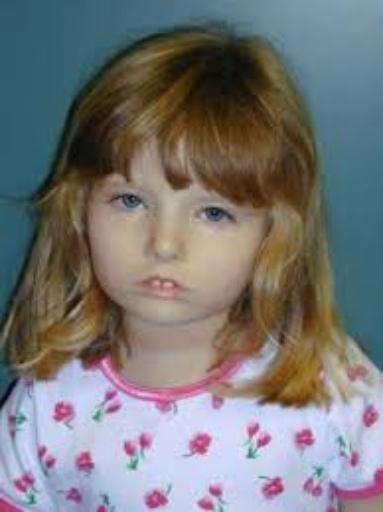left_eye: (191, 203, 241, 230)
left_lip_corner: (175, 281, 191, 295)
right_eye: (108, 192, 151, 215)
right_lip_corner: (135, 277, 149, 291)
